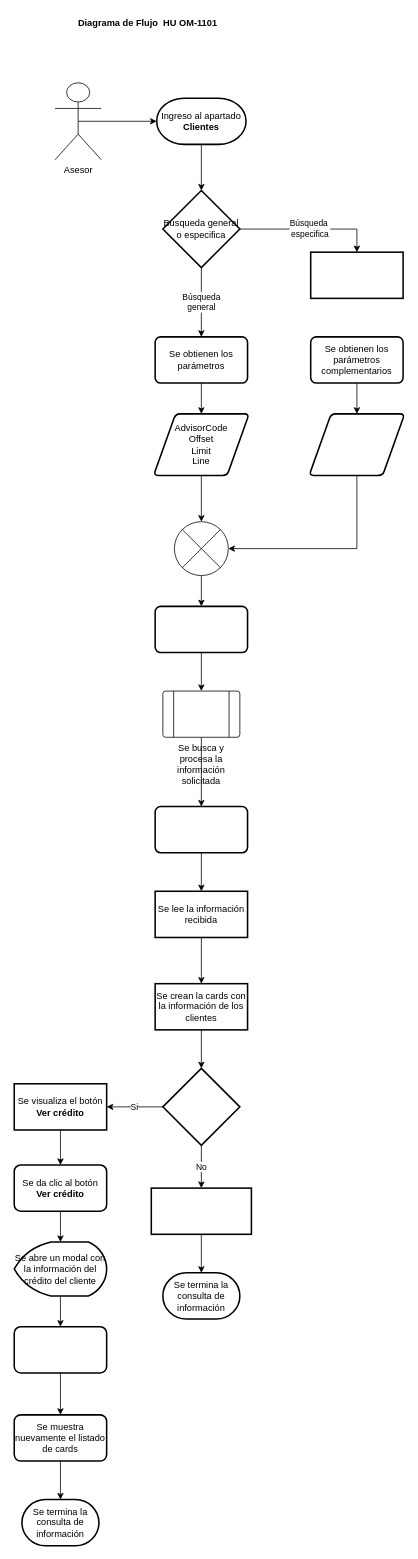
Some shapes in this 418 by 1559 pixel diagram are drawn without their labels. The centre of each missing label's shape, as x and y in pixels:
"AdvisorCode Offset Limit Line Filters" belongs at point (356, 444).
"No se visualiza el botón Ver crédito" belongs at point (201, 1211).
"Se cierra el modal" belongs at point (60, 1349).
"Se envía la información" belongs at point (201, 829).
"Se envían los parámetros de búsqueda" belongs at point (201, 629).
"Se ingresa el cardcode o nombre del cliente" belongs at point (356, 275).
"¿Tiene crédito el cliente?" belongs at point (201, 1106).
